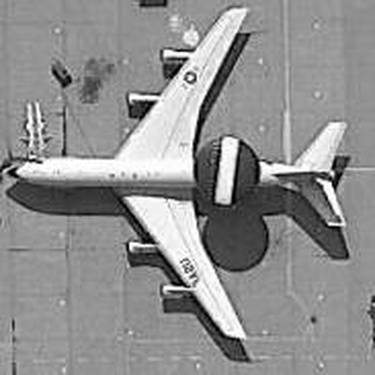airplane: (11, 2, 361, 356)
